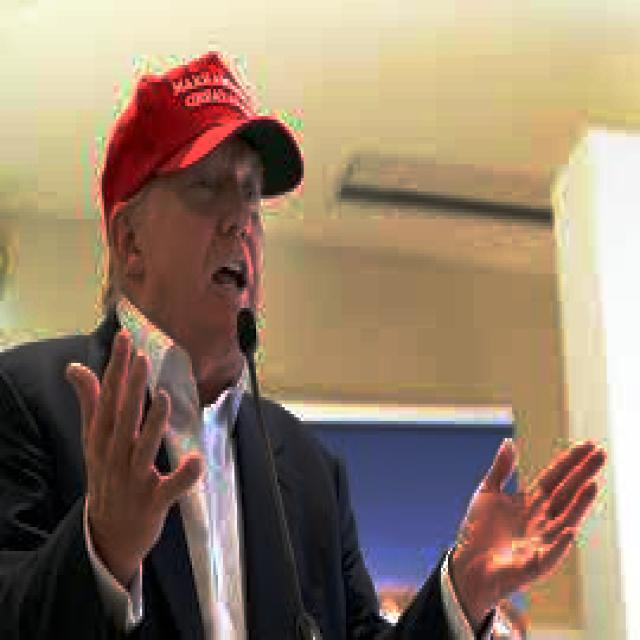TOPI: (92, 41, 306, 226)
